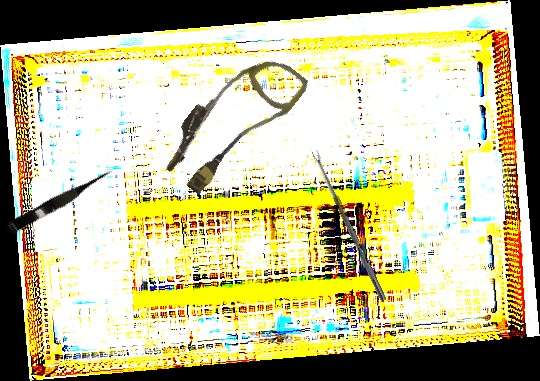Cannula: (153, 35, 312, 208)
Micro Scissor: (3, 165, 118, 238)
Surgical Spoon: (311, 149, 388, 302)
